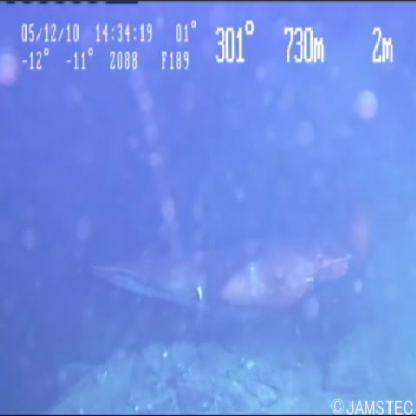Bio: (90, 198, 380, 332)
